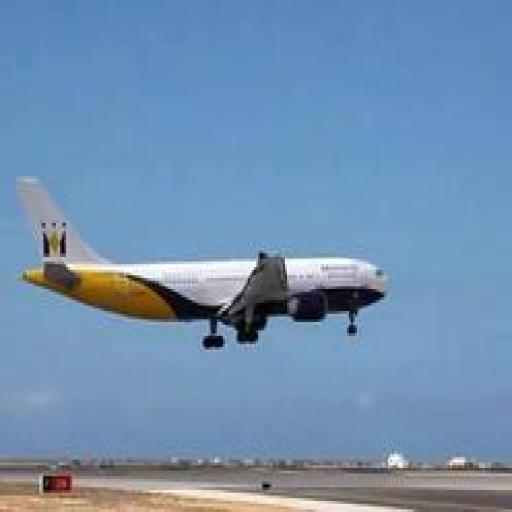aircraft: (13, 173, 389, 349)
